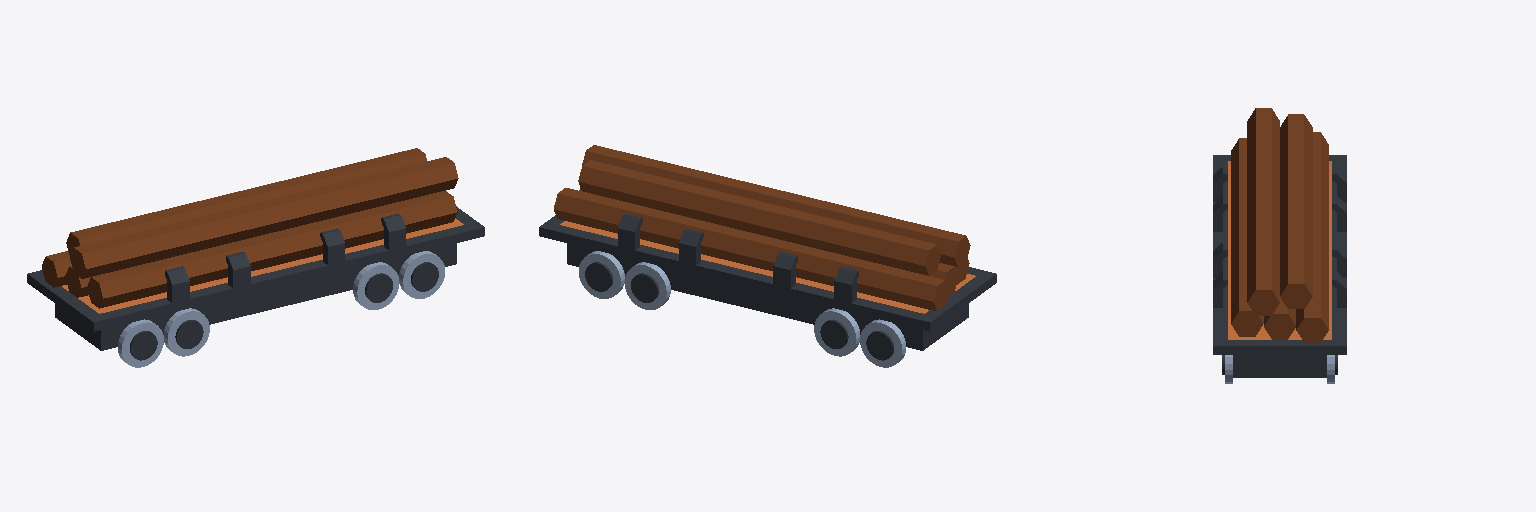
The model's file is trainWagonFlat.obj.
3 views of the same model, side by side, from view 1: azimuth 30°, elevation 25°; view 2: azimuth 150°, elevation 25°; view 3: azimuth 270°, elevation 25° (orthographic).
Visible parts, largest first — view 1: log, trainWagonFlat; view 2: log, trainWagonFlat; view 3: log, trainWagonFlat.
Part boxes in pixels (x1,y1,x2,y2): log: (42, 148, 458, 308); trainWagonFlat: (27, 206, 484, 367); log: (554, 145, 970, 311); trainWagonFlat: (539, 214, 996, 367); log: (1231, 108, 1328, 342); trainWagonFlat: (1213, 155, 1346, 383).
Bounding box in the file's own units: 0.4484 × 0.1245 × 0.1327.